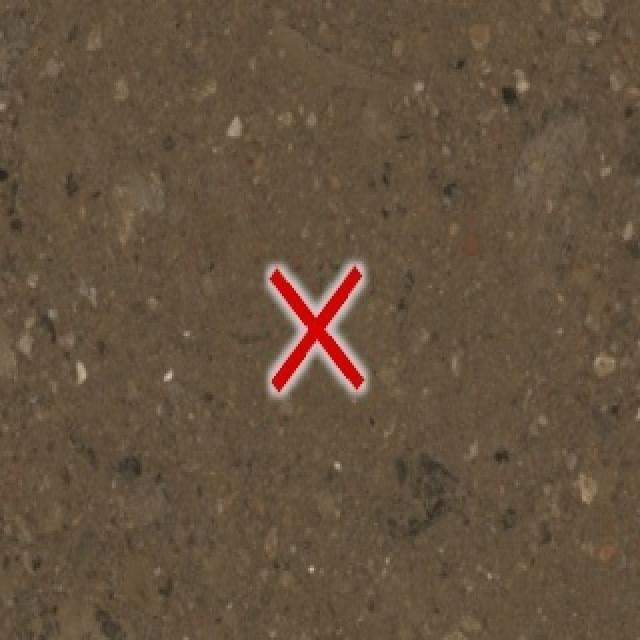x_marker: (269, 265, 363, 391)
